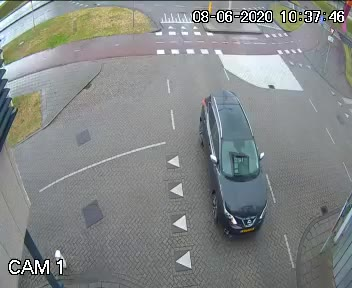car: (187, 85, 275, 244)
